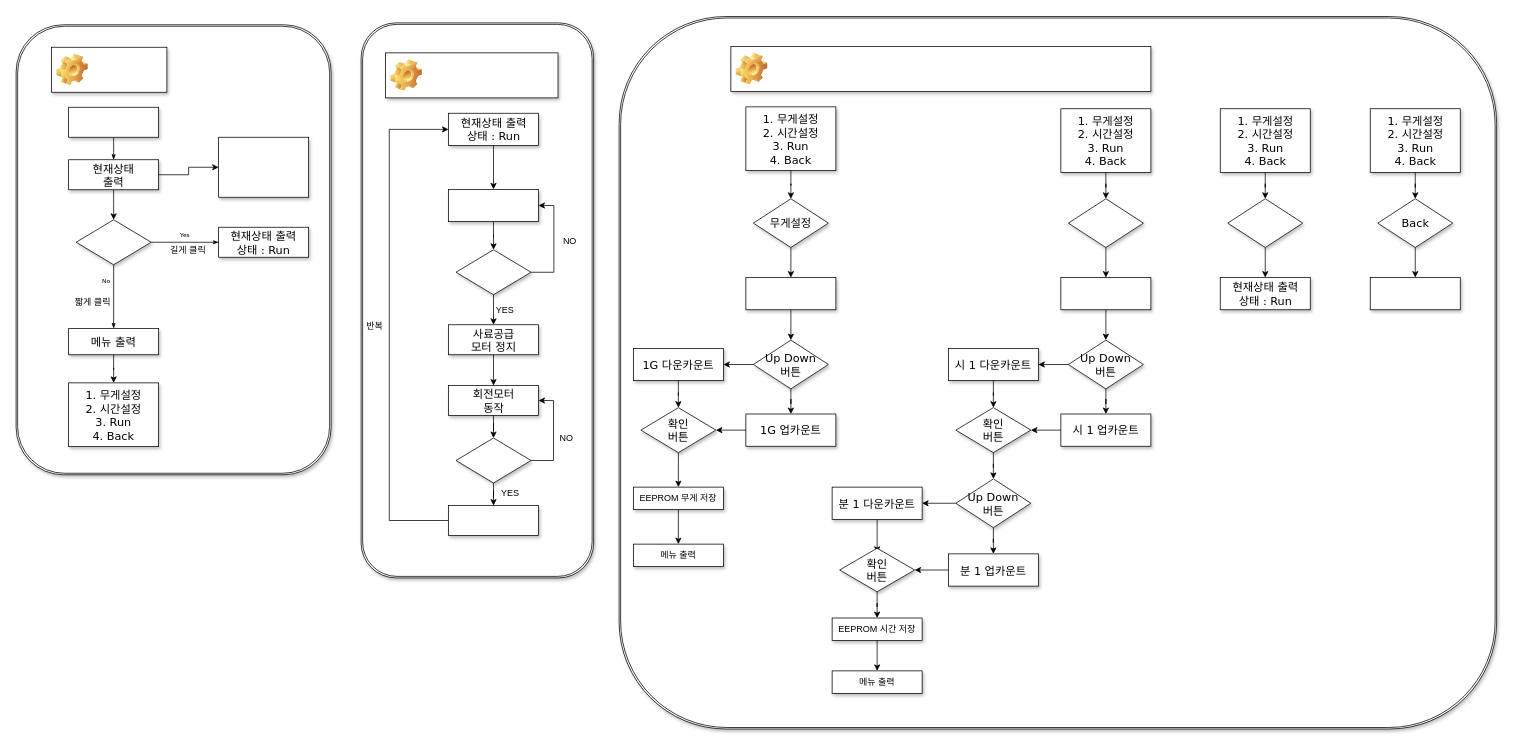
Some shapes in this 1525 by 747 pixel diagram are drawn without their labels. The centre of each missing label's shape, as x and y in pixels:
00 시 00 분 표시: [1106,294]
1 G 표시: [791,294]
30분 이상: [494,461]
Run: [1265,224]
Run 동작: [472,76]
대기 동작: [109,71]
메뉴 동작 : 1. 무게설정 2. 시간설정 3. Run 4. Back: [941,70]
사료공급 모터 동작: [494,206]
설정된 무게 판단: [494,273]
시간설정: [1106,224]
전원공급: [114,123]
현재무게 현재시간 현재상태 상태 : Ready: [264,168]
현재상태 출력 상태 : Ready: [1415,294]
확인 버튼클릭: [114,243]
회전모터 제자리로 동작: [494,521]
